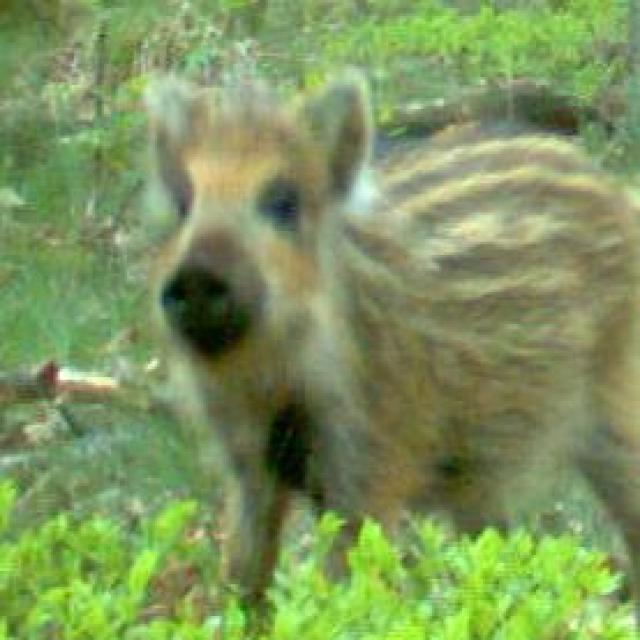pig: (131, 74, 640, 588)
